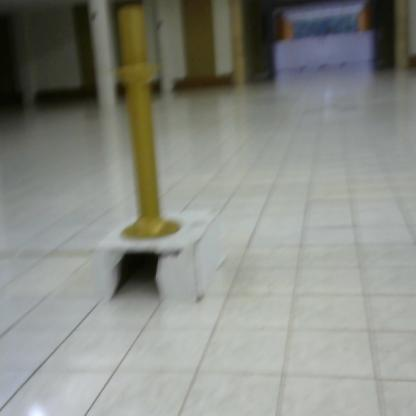pole: (106, 1, 187, 245)
